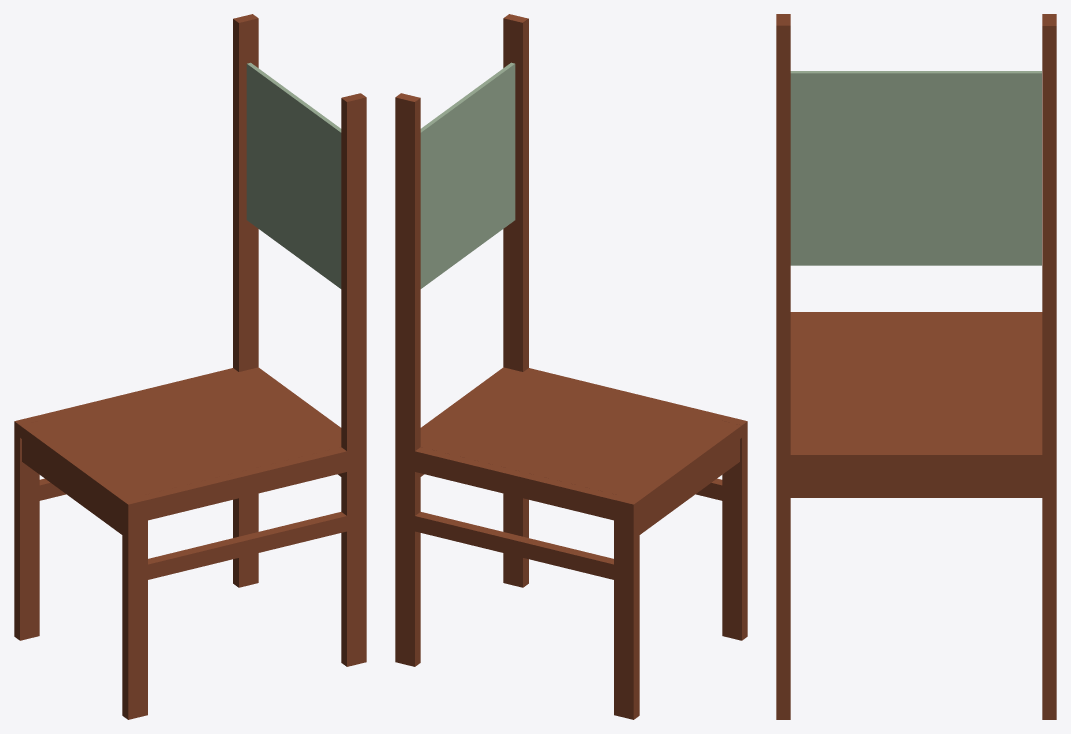
The model's file is Silla.obj.
The picture shows the model from 3 angles, left to right: view 1: azimuth 30°, elevation 25°; view 2: azimuth 150°, elevation 25°; view 3: azimuth 270°, elevation 25°; orthographic projection. The views are drawn at different scales.
Parts seen in each view (by area): view 1: Silla polySurface4 polySurface2; view 2: Silla polySurface4 polySurface2; view 3: Silla polySurface4 polySurface2.
Part boxes in pixels (bbox=[...]): Silla polySurface4 polySurface2: bbox=[14, 18, 366, 719]; Silla polySurface4 polySurface2: bbox=[395, 18, 747, 719]; Silla polySurface4 polySurface2: bbox=[776, 25, 1056, 719].
Bounding box in the file's own units: 0.545 × 1.23 × 0.4511.
4 materials, 4 textured.
